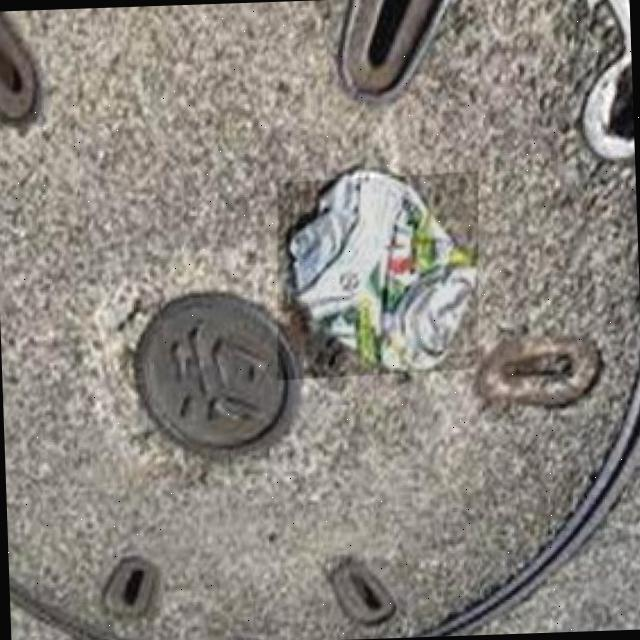trash: (274, 170, 488, 378)
